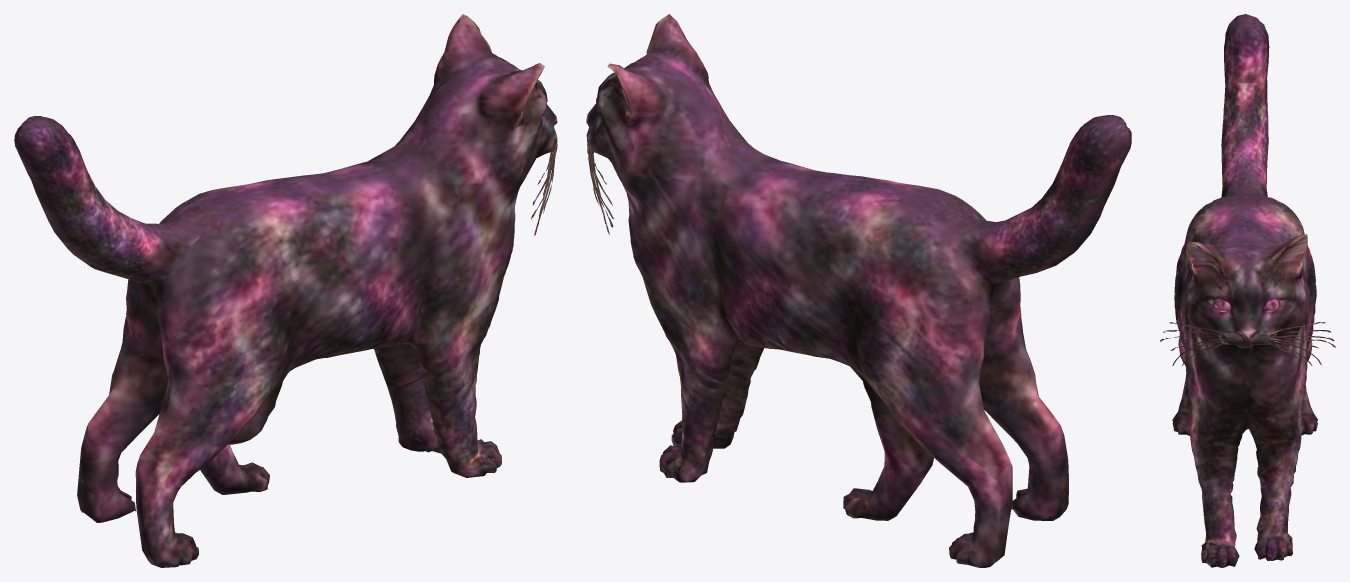
File: QCGENESIS-lo.glb
3 views of the same model, side by side, from view 1: azimuth 30°, elevation 25°; view 2: azimuth 150°, elevation 25°; view 3: azimuth 270°, elevation 25° (orthographic). The views are drawn at different scales.
Parts seen in each view (by area): view 1: tripo_node_6348672f-5f89-43e0-bc50-4ea9cf970f99; view 2: tripo_node_6348672f-5f89-43e0-bc50-4ea9cf970f99; view 3: tripo_node_6348672f-5f89-43e0-bc50-4ea9cf970f99.
Boxes of the visible parts, x1,y1,x2,y2 form: tripo_node_6348672f-5f89-43e0-bc50-4ea9cf970f99: [14, 14, 557, 567]; tripo_node_6348672f-5f89-43e0-bc50-4ea9cf970f99: [586, 14, 1131, 567]; tripo_node_6348672f-5f89-43e0-bc50-4ea9cf970f99: [1160, 14, 1335, 567].
Bounding box in the file's own units: 1.26 × 0.9956 × 0.4249.
1 material, 1 textured.
